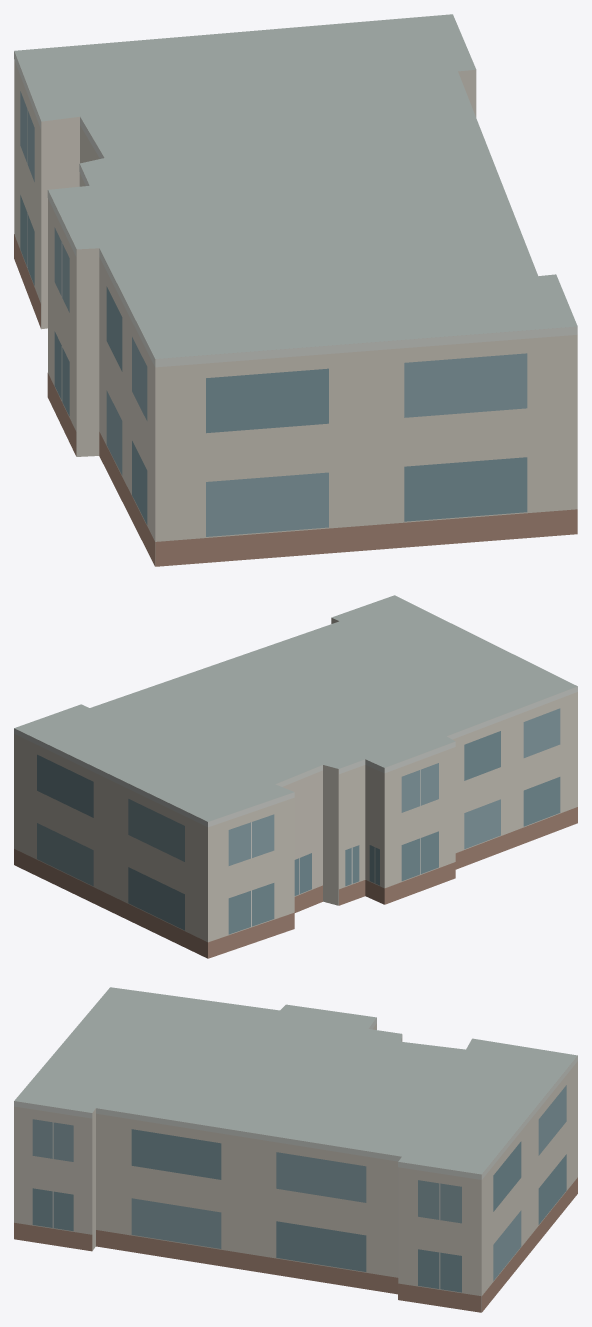
Rendered from survey-upis-32693909.glb.
The picture shows the model from 3 angles, top to bottom: view 1: azimuth 30°, elevation 25°; view 2: azimuth 150°, elevation 25°; view 3: azimuth 270°, elevation 25°; orthographic projection. The views are drawn at different scales.
Parts seen in each view (by area): view 1: survey-upis-32693909.tmp; view 2: survey-upis-32693909.tmp; view 3: survey-upis-32693909.tmp.
Boxes of the visible parts, x1,y1,x2,y2 form: survey-upis-32693909.tmp: (14,14,577,566); survey-upis-32693909.tmp: (14,595,577,958); survey-upis-32693909.tmp: (14,987,577,1312).
Size of the model in its own units: 17.74 by 6.1 by 22.56.
